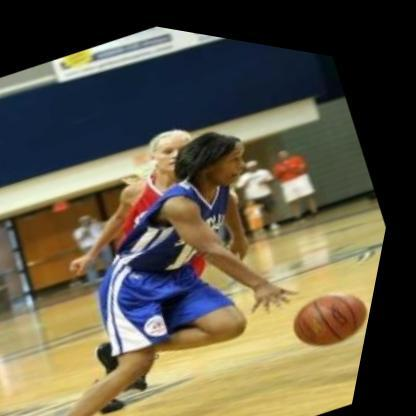basketball: (284, 253, 384, 356)
